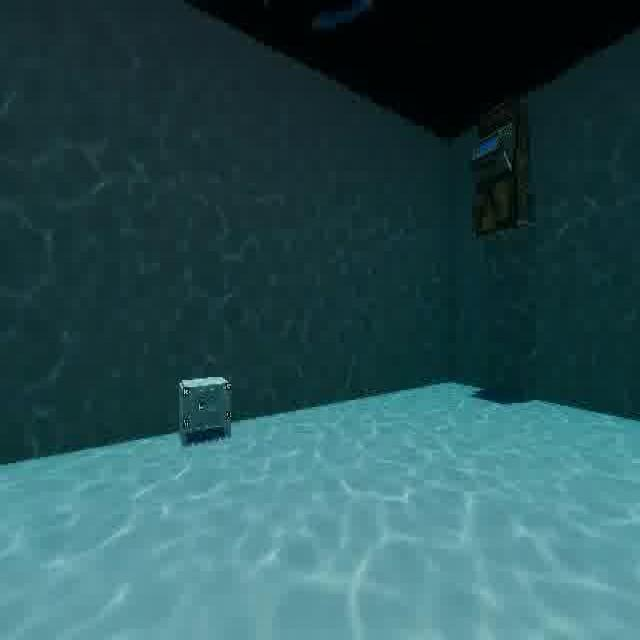Control Panel: (466, 89, 541, 242)
Docking Station: (176, 364, 242, 458)
